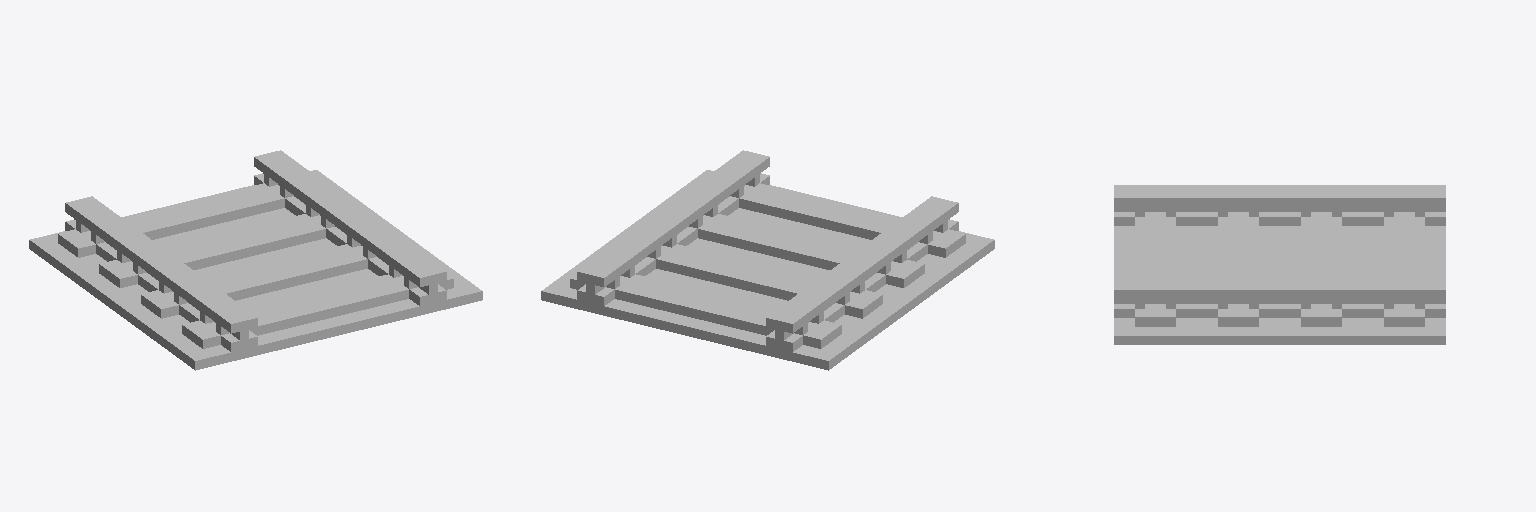
File: via.obj
3 views of the same model, side by side, from view 1: azimuth 30°, elevation 25°; view 2: azimuth 150°, elevation 25°; view 3: azimuth 270°, elevation 25° (orthographic).
Size of the model in its own units: 32 by 4 by 32.